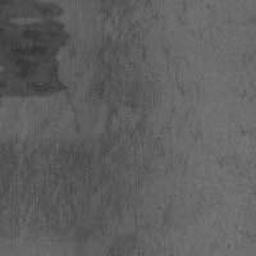Oil spot: (0, 0, 159, 246)
